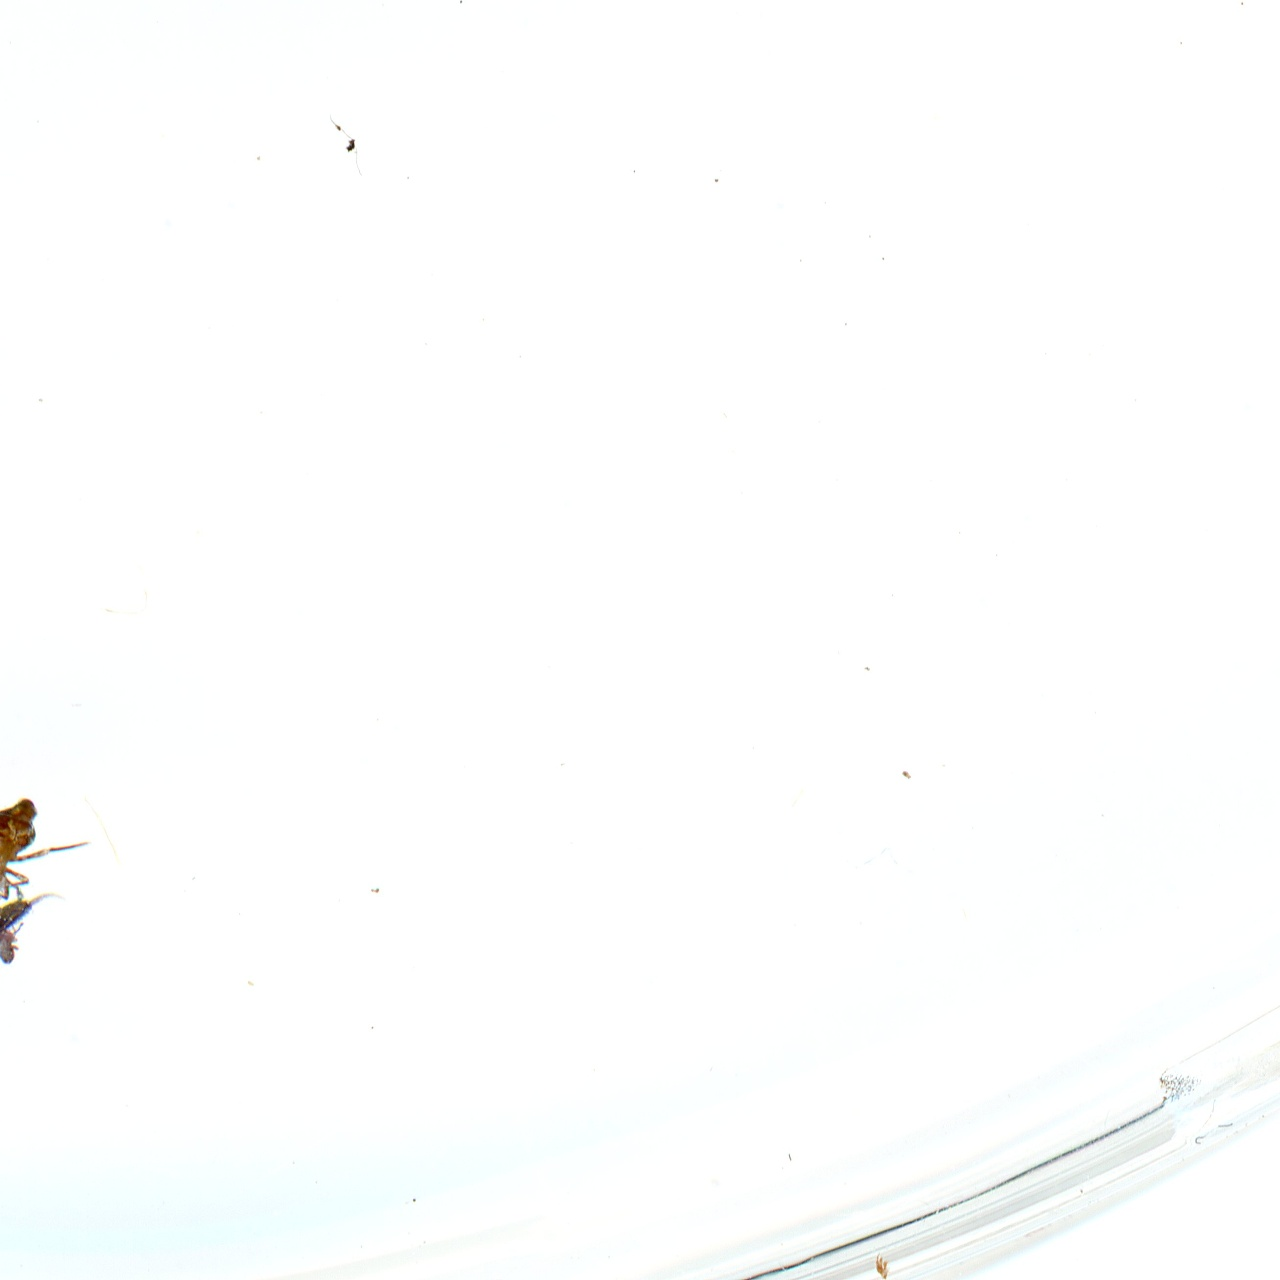arthropod: (0, 791, 99, 908), (0, 887, 70, 942), (0, 920, 26, 966)
